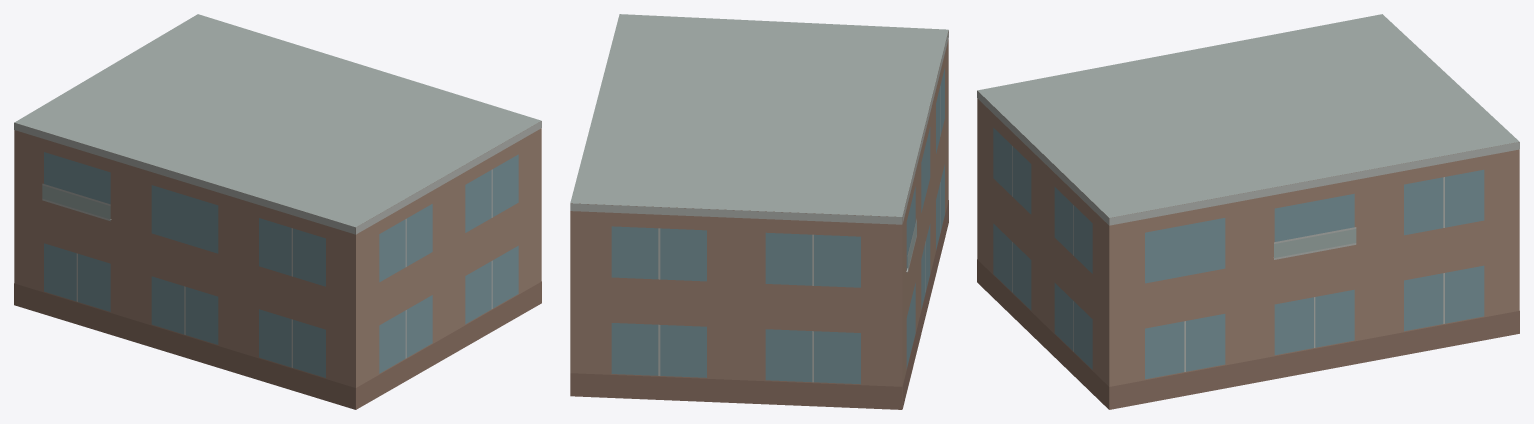
The model's file is survey-upis-32952258.glb.
3 views of the same model, side by side, from view 1: azimuth 30°, elevation 25°; view 2: azimuth 150°, elevation 25°; view 3: azimuth 270°, elevation 25° (orthographic). The views are drawn at different scales.
Parts seen in each view (by area): view 1: survey-upis-32952258.tmp; view 2: survey-upis-32952258.tmp; view 3: survey-upis-32952258.tmp.
Boxes of the visible parts, left/top/right/bottom form: survey-upis-32952258.tmp: left=14, top=14, right=541, bottom=409; survey-upis-32952258.tmp: left=570, top=14, right=948, bottom=409; survey-upis-32952258.tmp: left=977, top=14, right=1519, bottom=409.
Size of the model in its own units: 13.92 by 6.1 by 15.65.
